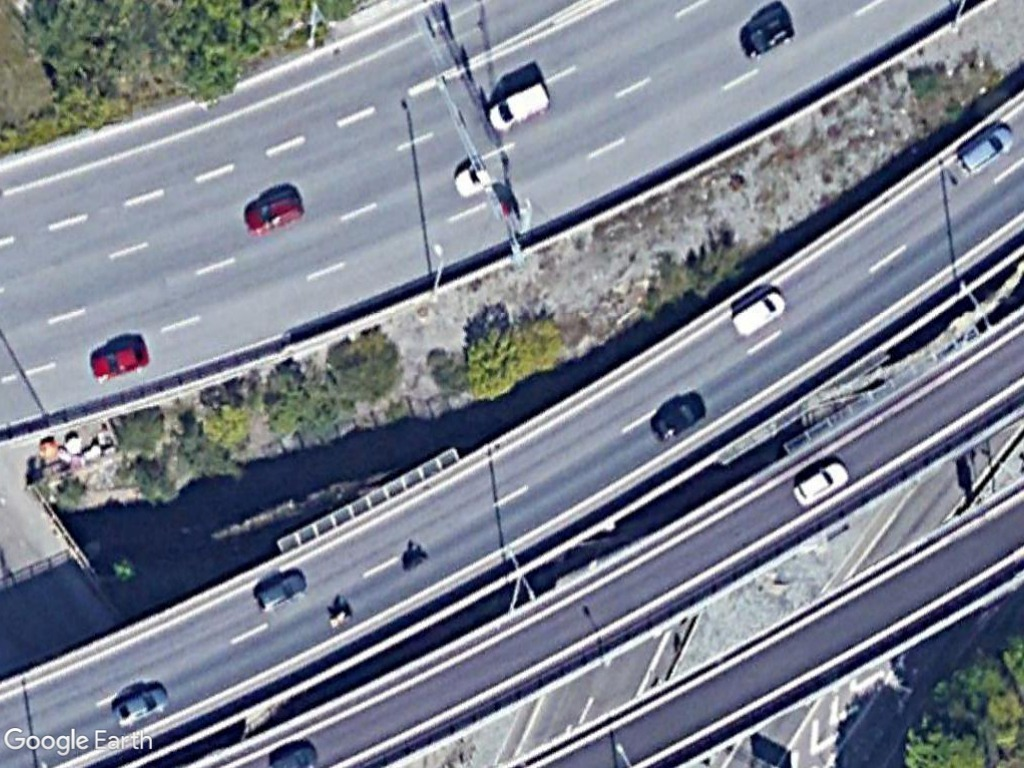car: (947, 113, 1021, 177), (783, 452, 861, 511), (238, 181, 314, 239), (737, 5, 807, 63), (646, 386, 709, 445), (250, 560, 315, 617), (104, 679, 173, 732), (724, 285, 787, 342), (86, 333, 152, 385)
van: (483, 73, 560, 136)
